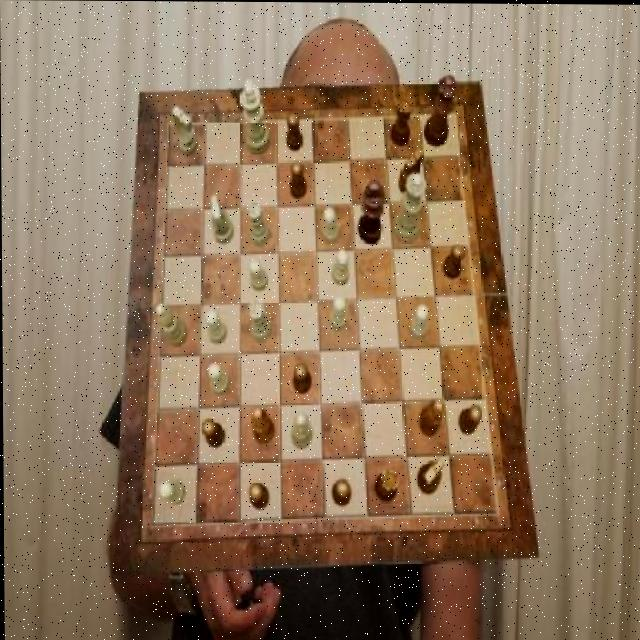bishop: (418, 398, 442, 436), (251, 406, 275, 444)
black-bishop: (356, 181, 384, 245)
black-king: (398, 149, 424, 196), (415, 456, 443, 494)
black-knight: (442, 244, 465, 279), (458, 404, 482, 435), (288, 161, 306, 200), (285, 112, 302, 151), (201, 420, 224, 448), (330, 479, 350, 507), (292, 363, 310, 394), (247, 482, 267, 509)
black-pawn: (422, 75, 458, 147)
black-queen: (389, 100, 412, 147), (374, 468, 398, 502)
black-rook: (154, 302, 185, 347), (289, 413, 312, 449)
white-bishop: (239, 80, 270, 156)
white-king: (172, 107, 198, 157), (211, 195, 234, 244)
white-knight: (204, 309, 227, 344), (206, 363, 229, 397), (157, 479, 184, 505), (247, 258, 268, 291), (409, 304, 428, 339), (329, 294, 347, 329), (330, 250, 348, 284), (321, 208, 338, 244)
white-pawn: (391, 171, 426, 242)
white-queen: (246, 200, 269, 246), (248, 298, 271, 341)
